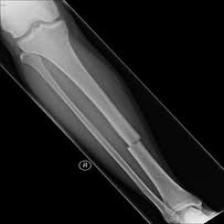comminuted-fracture: (2, 0, 224, 223)
